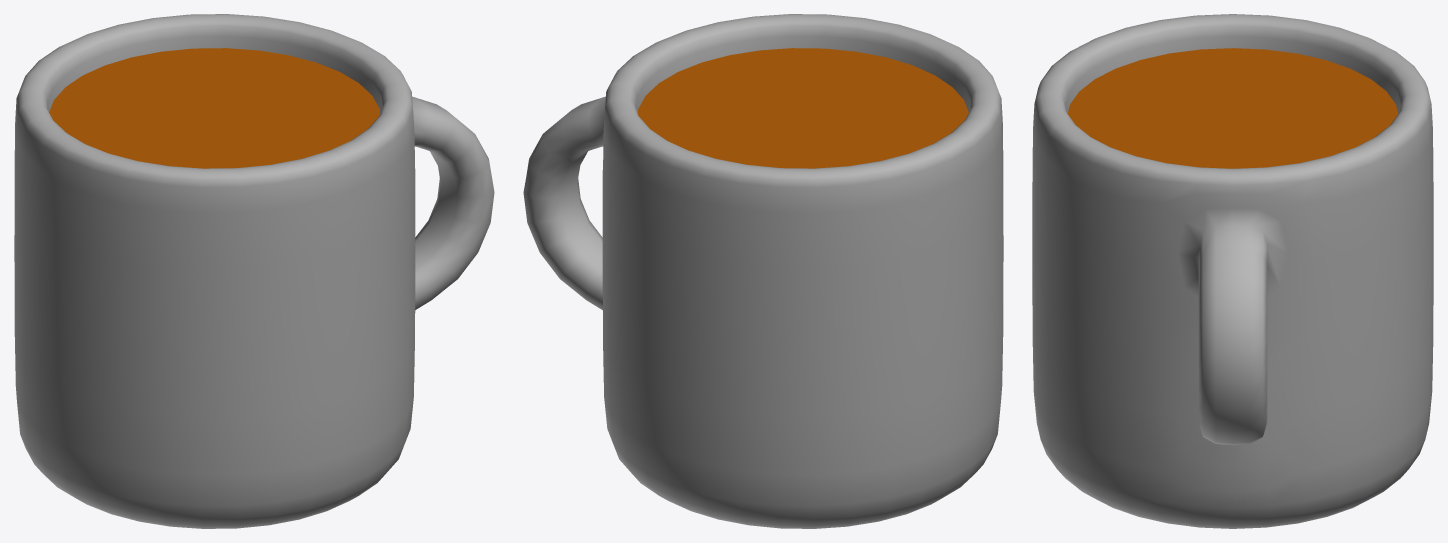
Rendered from CupB full.fbx.
3 views of the same model, side by side, from view 1: azimuth 30°, elevation 25°; view 2: azimuth 150°, elevation 25°; view 3: azimuth 270°, elevation 25° (orthographic).
Visible parts, largest first — view 1: CupB full; view 2: CupB full; view 3: CupB full.
Boxes of the visible parts, x1,y1,x2,y2 form: CupB full: [14, 14, 494, 528]; CupB full: [523, 14, 1003, 528]; CupB full: [1032, 14, 1433, 528].
Size of the model in its own units: 0.6651 by 0.5199 by 0.5274.
